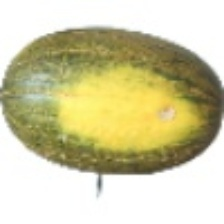honeydew: (42, 6, 215, 174)
